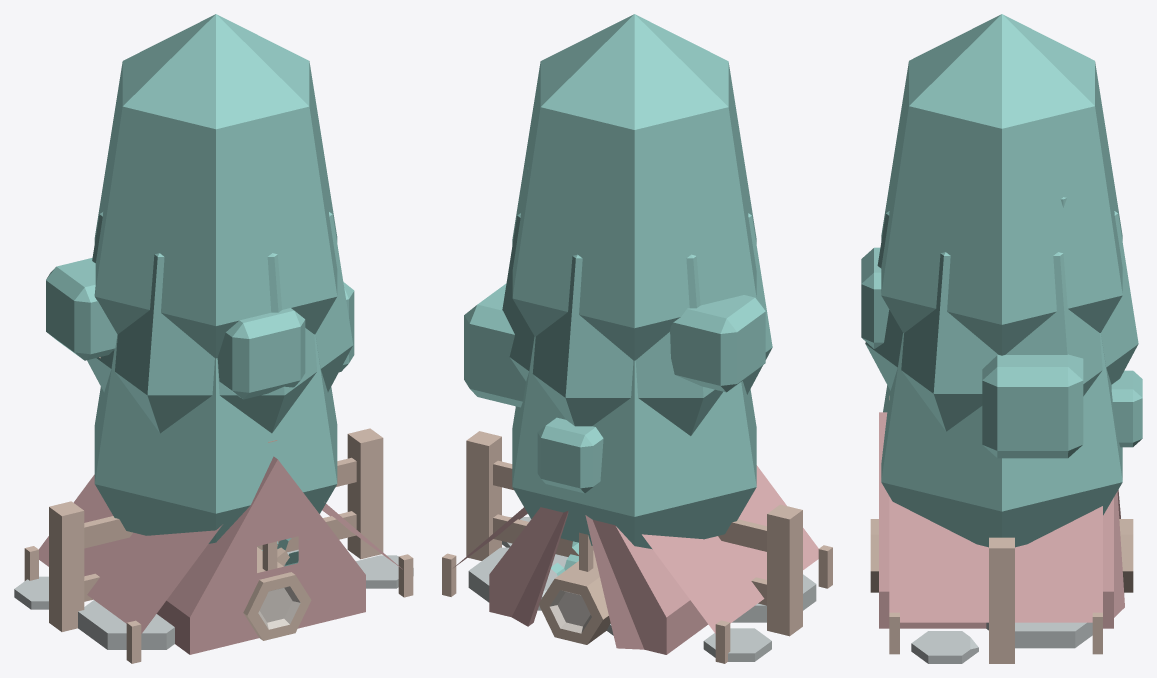
File: wiese.glb
3 renders of one model, left to right at view 1: azimuth 30°, elevation 25°; view 2: azimuth 150°, elevation 25°; view 3: azimuth 270°, elevation 25°, orthographic.
Visible parts, largest first — view 1: treeDefault, tent, treeFat, treeOak, treeDetailed, fence, pathStone, log; view 2: treeDefault, tent, treeFat, treeDetailed, treeOak, fence, log, pathStone; view 3: treeDefault, treeFat, tent, treeOak, treeDetailed, pathStone, fence, log.
Boxes of the visible parts, x1,y1,x2,y2 form: treeDefault: (94, 14, 337, 358); tent: (24, 440, 413, 663); treeFat: (94, 334, 337, 543); treeOak: (87, 212, 353, 433); treeDetailed: (46, 257, 354, 399); fence: (49, 428, 383, 631); pathStone: (14, 549, 413, 649); log: (243, 547, 311, 640); treeDefault: (512, 14, 756, 360); tent: (442, 465, 832, 663); treeFat: (512, 336, 756, 549); treeDetailed: (464, 167, 765, 493); treeOak: (502, 213, 772, 435); fence: (466, 431, 802, 636); log: (538, 550, 610, 644); pathStone: (468, 517, 816, 661); treeDefault: (881, 14, 1122, 355); treeFat: (881, 333, 1122, 547); tent: (879, 396, 1124, 654); treeOak: (865, 211, 1138, 431); treeDetailed: (861, 197, 1142, 458); pathStone: (911, 622, 1092, 663); fence: (989, 537, 1014, 663); log: (870, 519, 1133, 592).
Size of the model in its own units: 1 by 1.71 by 0.7616.
